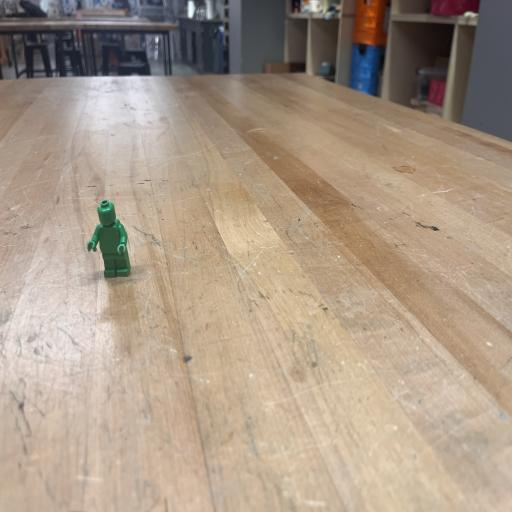Lego-Minifig: (87, 200, 131, 277)
